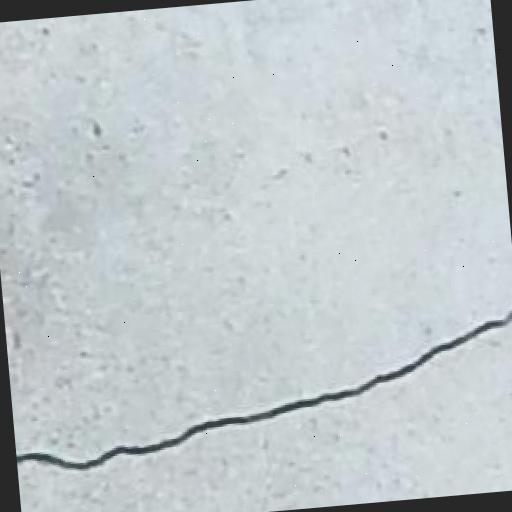spalling: (20, 281, 512, 482)
